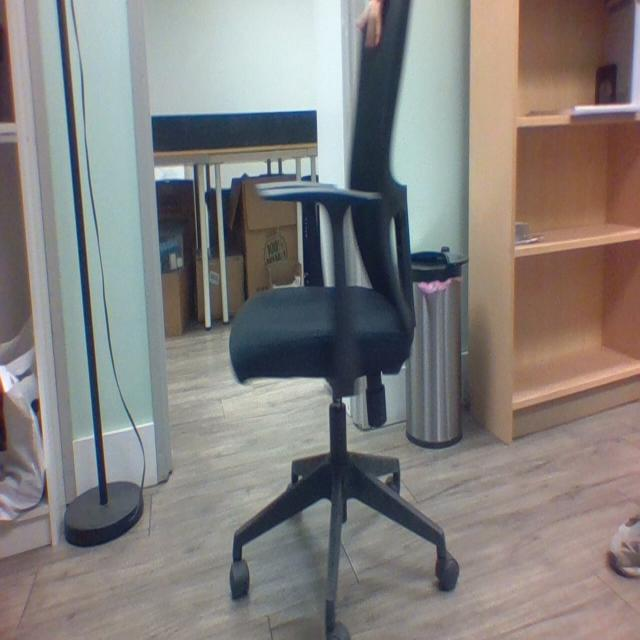black-chair: (226, 8, 456, 638)
